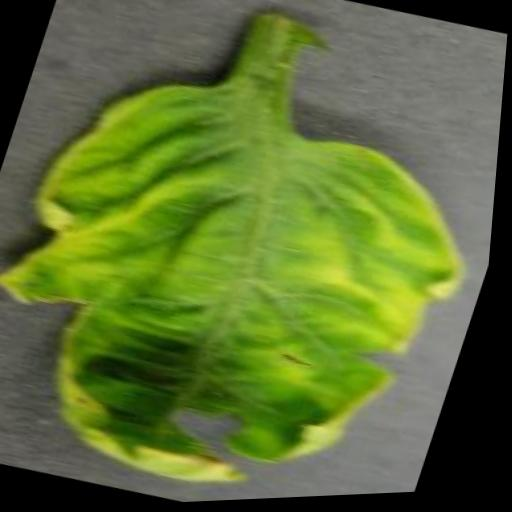Yellow Leaf Curl Virus: (0, 36, 509, 512)
